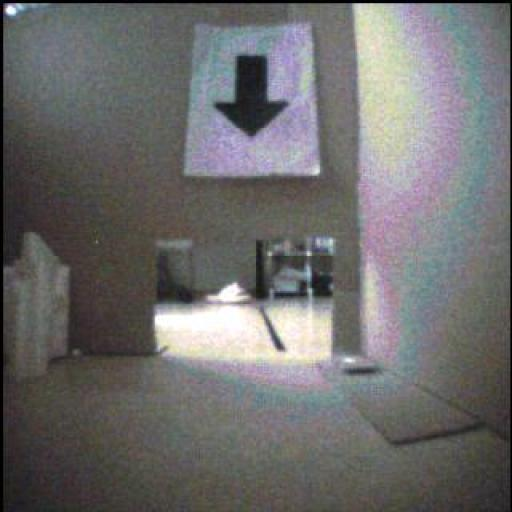arrow: (215, 57, 289, 137)
